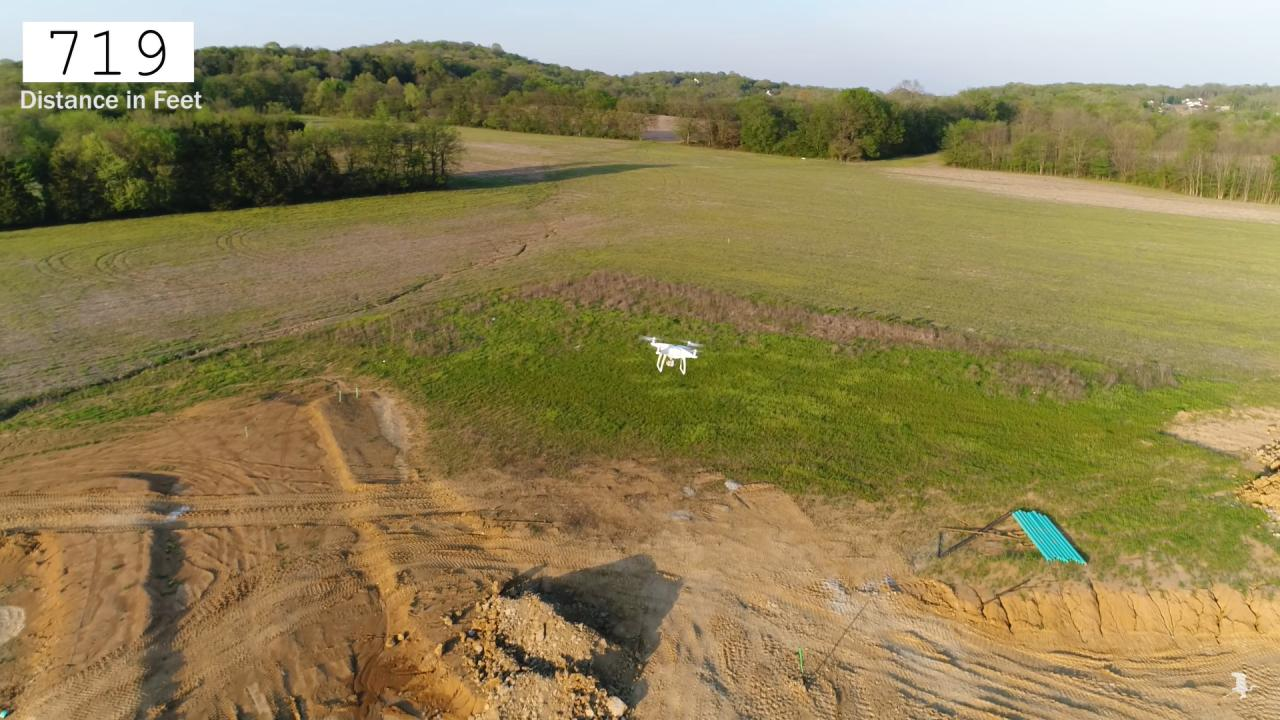Drone: (630, 329, 713, 382)
